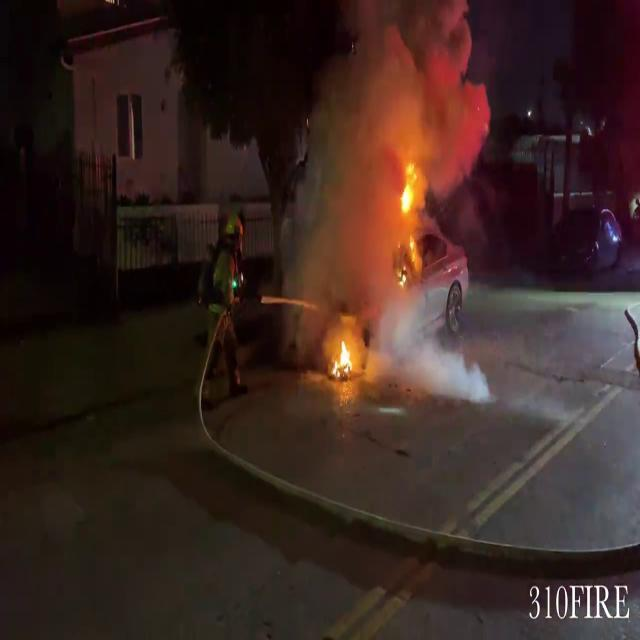Fire: (390, 152, 428, 260), (328, 332, 356, 384)
Smoke: (278, 2, 488, 410), (278, 0, 490, 284), (278, 0, 490, 186), (372, 273, 490, 413)
